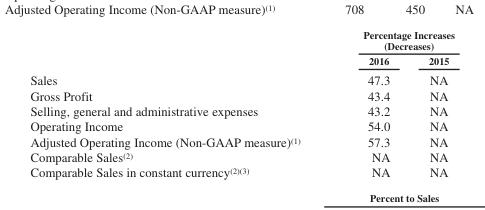table: (29, 28, 454, 179)
table column: (29, 28, 331, 179), (331, 28, 408, 179), (408, 28, 454, 179)
table column header: (29, 28, 454, 69)
table row: (29, 28, 454, 52), (29, 69, 454, 87), (29, 52, 454, 69), (29, 87, 454, 103), (29, 133, 454, 149), (29, 103, 454, 118), (29, 118, 454, 133), (29, 149, 454, 164), (29, 164, 454, 179)
table spanning cell: (331, 28, 454, 52)
